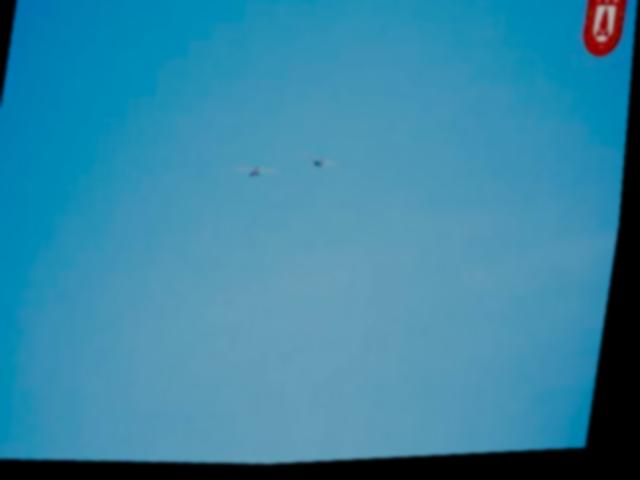uav: (233, 160, 286, 181), (303, 153, 344, 177)
